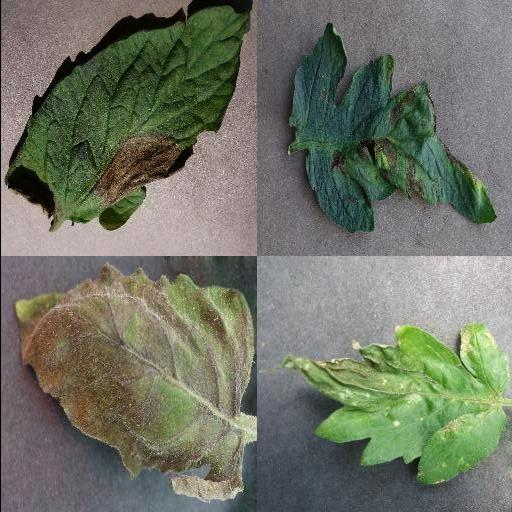Early Blight: (286, 21, 496, 234)
Late Blight: (14, 259, 256, 505), (0, 2, 254, 232), (282, 321, 512, 487)
